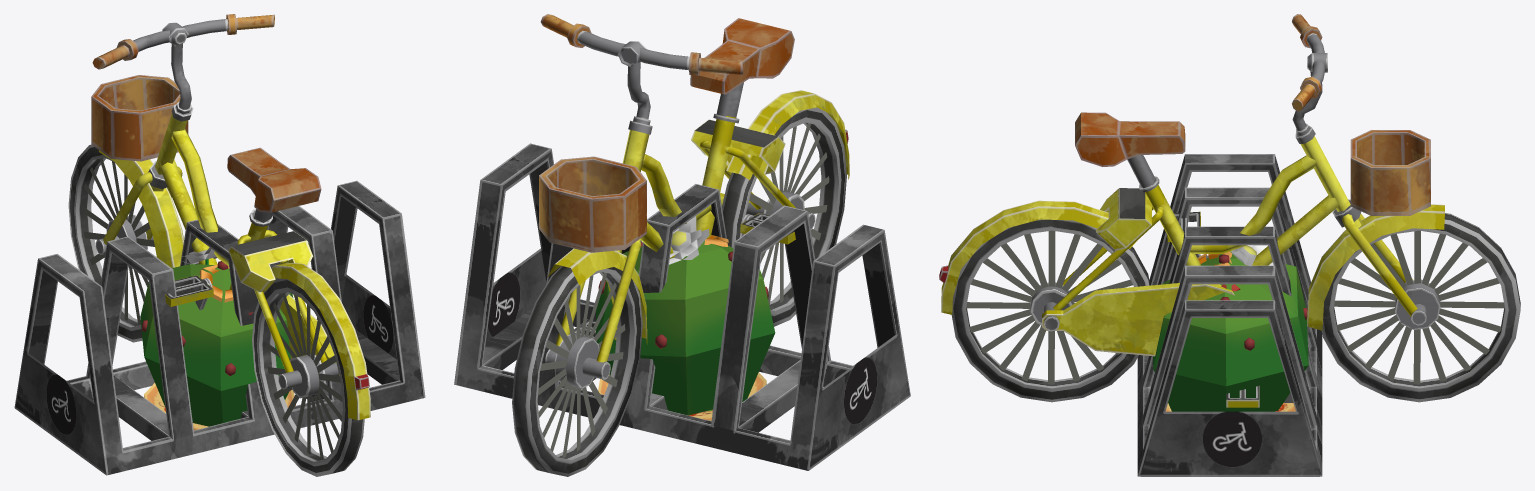
Rendered from Bike_Park_Kyst.fbx.
3 renders of one model, left to right at view 1: azimuth 30°, elevation 25°; view 2: azimuth 150°, elevation 25°; view 3: azimuth 270°, elevation 25°, orthographic. The views are drawn at different scales.
Parts seen in each view (by area): view 1: Bike, Park, Kust, Flouersss, PizzaEDA; view 2: Bike, Park, Kust, Flouersss, PizzaEDA; view 3: Bike, Park, Kust, Flouersss.
Boxes of the visible parts, x1=… form: Bike: x1=68, y1=14, x2=370, y2=476; Park: x1=14, y1=180, x2=425, y2=475; Kust: x1=140, y1=261, x2=293, y2=426; Flouersss: x1=182, y1=247, x2=233, y2=302; PizzaEDA: x1=144, y1=383, x2=295, y2=430; Bike: x1=512, y1=14, x2=849, y2=476; Park: x1=454, y1=143, x2=910, y2=470; Kust: x1=595, y1=238, x2=775, y2=415; Flouersss: x1=669, y1=216, x2=729, y2=264; PizzaEDA: x1=598, y1=372, x2=766, y2=420; Bike: x1=939, y1=14, x2=1520, y2=407; Park: x1=1137, y1=154, x2=1322, y2=476; Kust: x1=1152, y1=251, x2=1308, y2=411; Flouersss: x1=1197, y1=245, x2=1273, y2=291.
Size of the model in its own units: 1.4 by 1.45 by 2.21.
